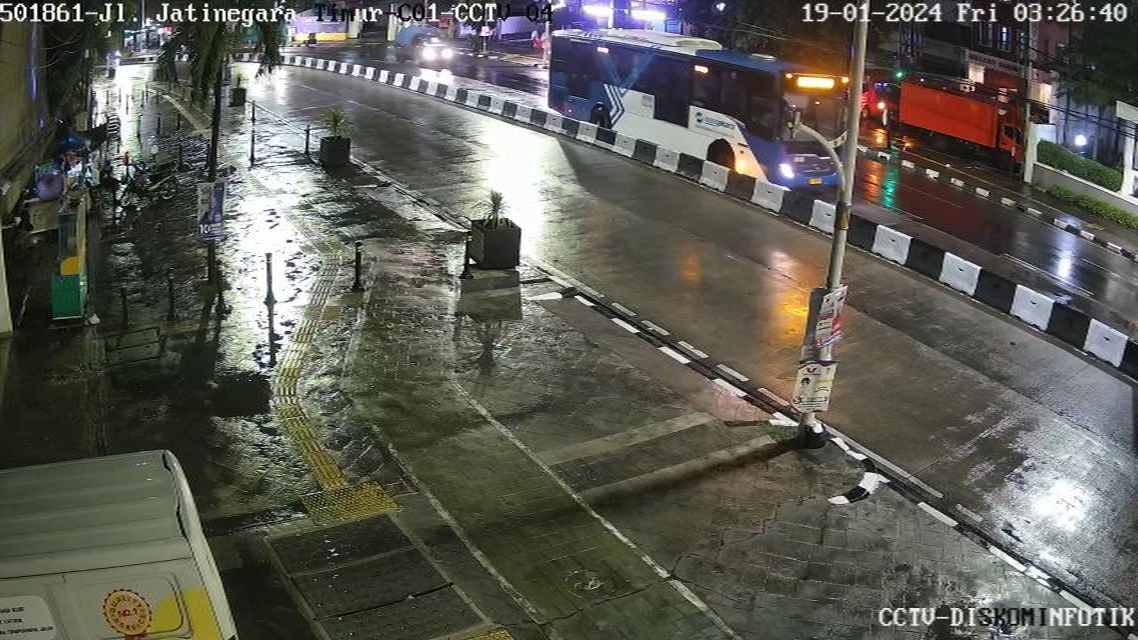Gerobak: (25, 187, 101, 333)
